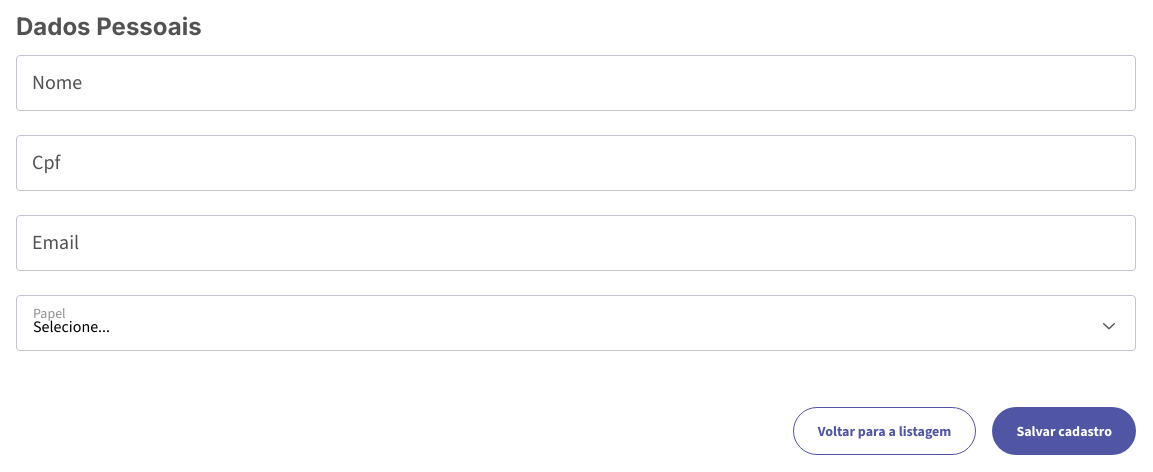
it: EmployeeFormPresentation › should render a Select Component
Expected: the text "Selecione..." is shown, [33,317,110,337]
# Select click
Step 1. Click the dropdown → {"x": 72, "y": 327}, box [16,295,1136,351]
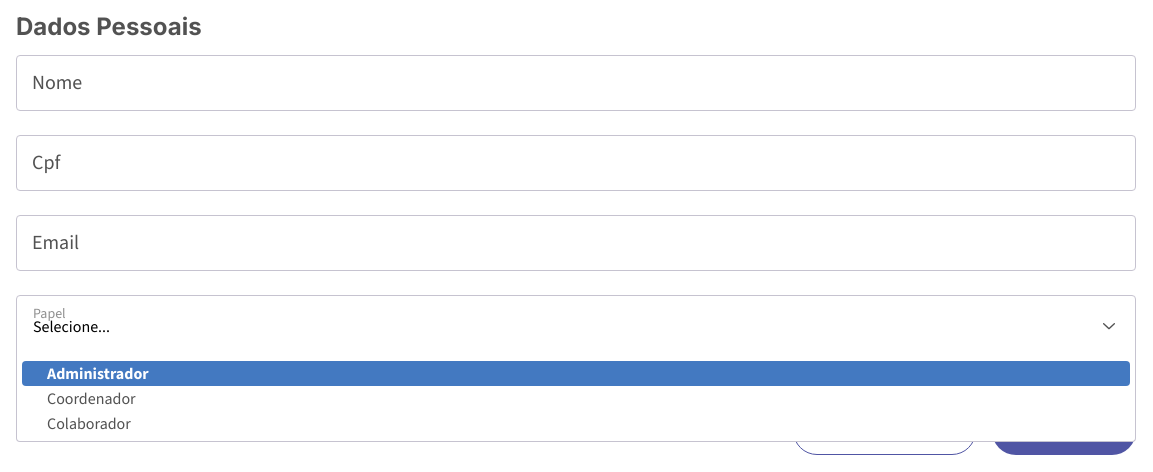
Expected: the option "Administrador" is shown
Expected: the option "Coordenador" is shown, [47,388,136,409]
Expected: the option "Colaborador" is shown, [47,413,131,434]
# Select option
Step 2. Click the option "Administrador" → {"x": 98, "y": 373}, box [22,361,1130,386]
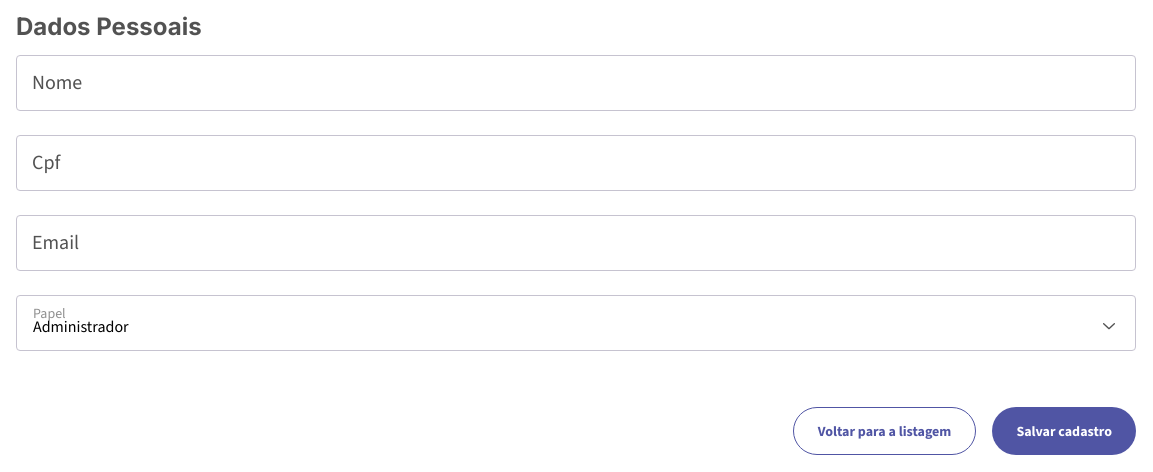
Expected: the dropdown is collapsed, [16,295,1136,351]
Expected: the text "Administrador" is shown, [33,317,129,337]
